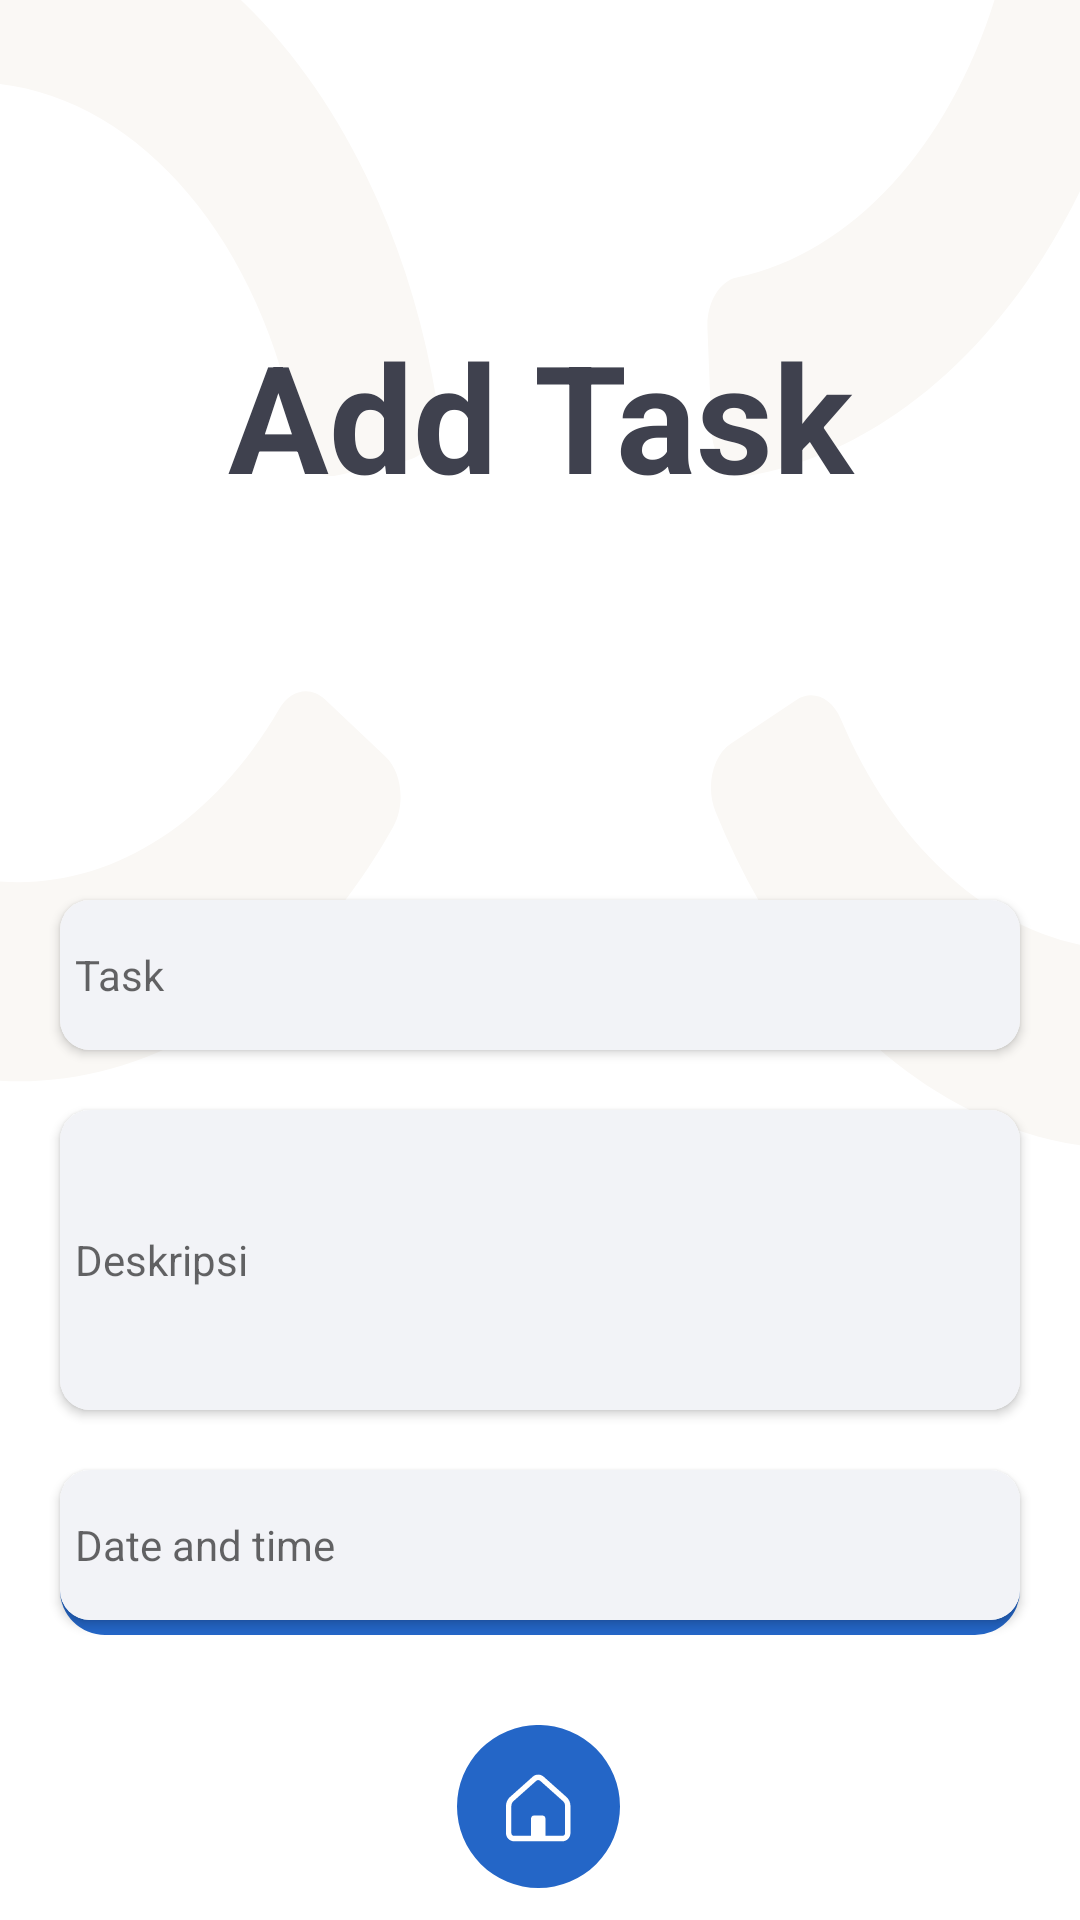

Icon click points for this 1080*1920 phone screenshot, format point (x, y):
home: point (538, 1806)
